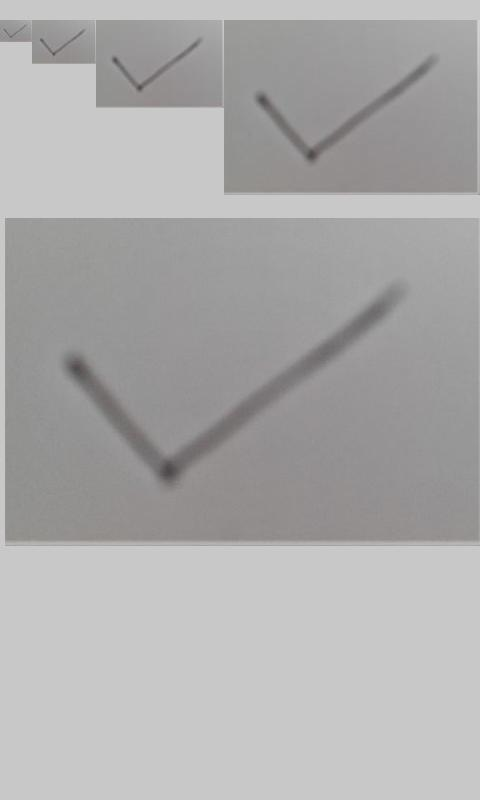check_box: (64, 279, 404, 490), (257, 54, 440, 162), (111, 37, 202, 92), (40, 29, 83, 56), (3, 25, 27, 38)
